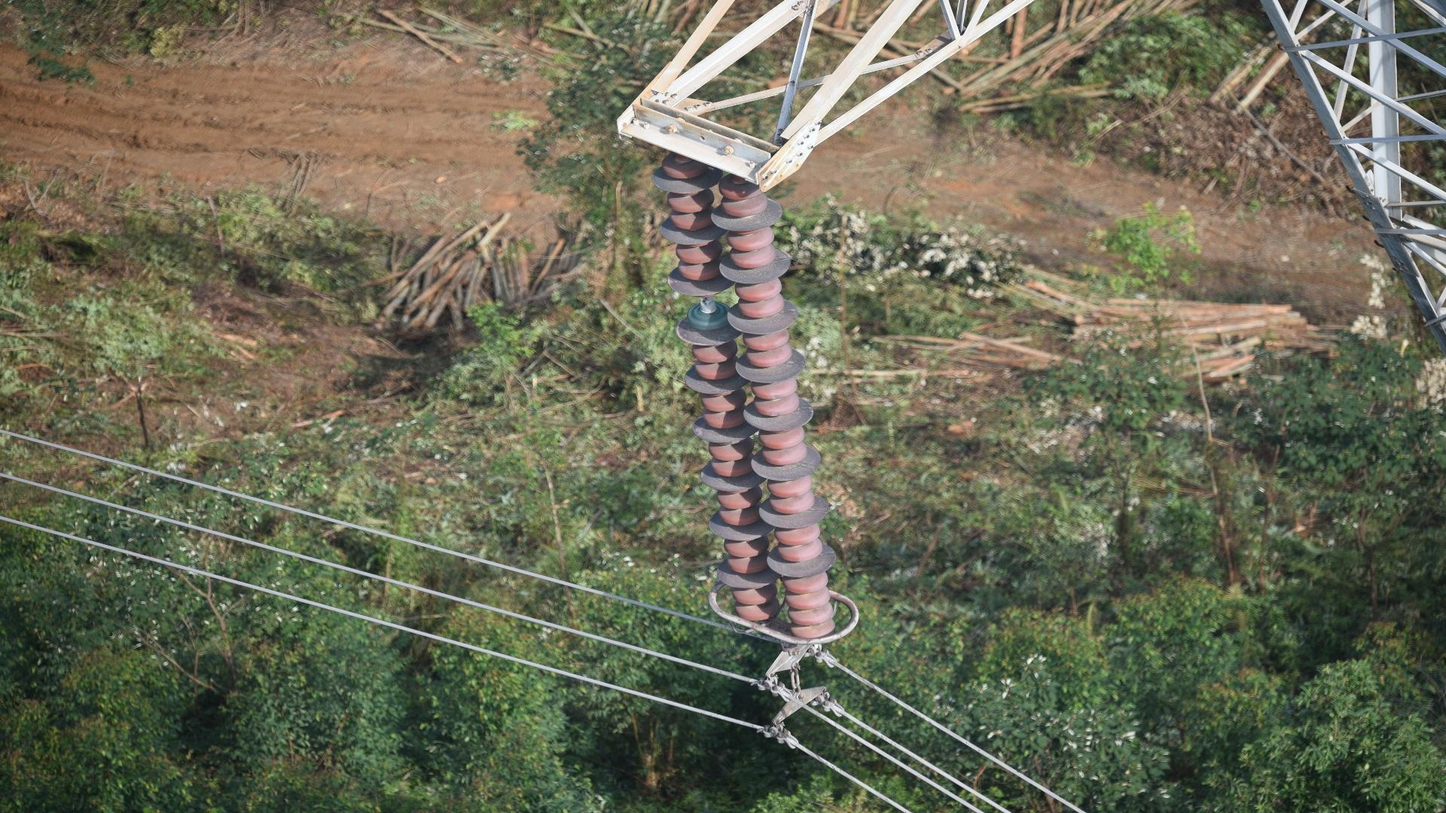insulator: (648, 142, 841, 642)
